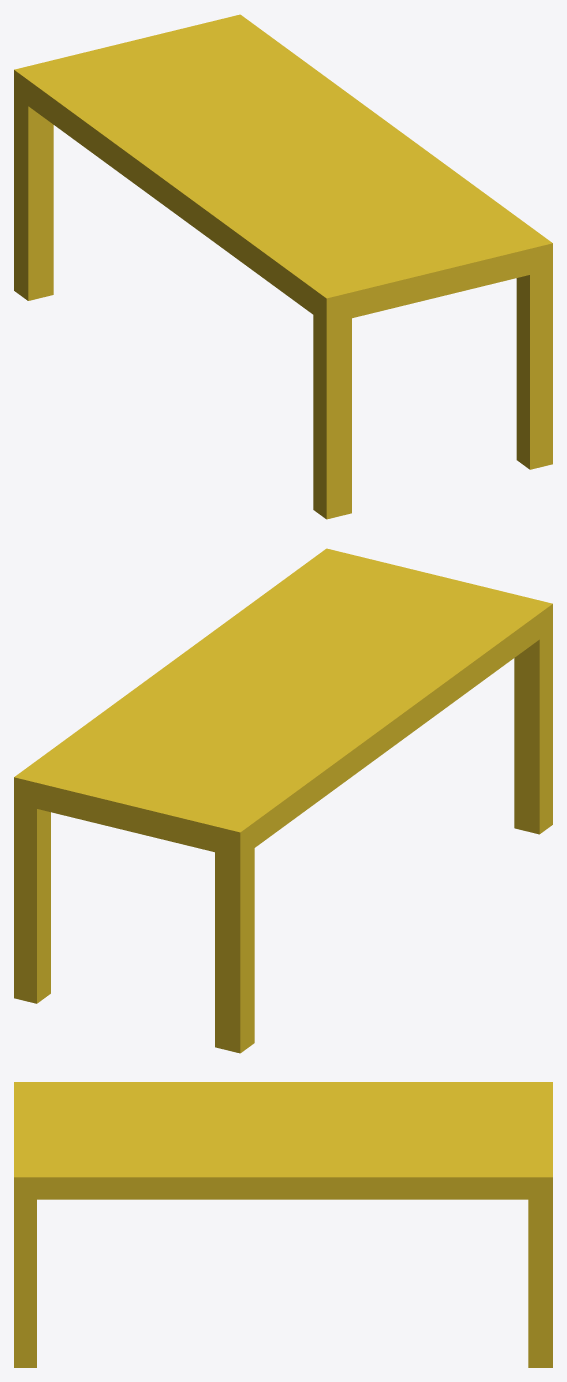
Rendered from plastic_table.glb.
3 renders of one model, top to bottom at view 1: azimuth 30°, elevation 25°; view 2: azimuth 150°, elevation 25°; view 3: azimuth 270°, elevation 25°, orthographic. The views are drawn at different scales.
Parts seen in each view (by area): view 1: PlasticTable.001; view 2: PlasticTable.001; view 3: PlasticTable.001.
Boxes of the visible parts, bbox=[...] form: PlasticTable.001: bbox=[14, 14, 552, 519]; PlasticTable.001: bbox=[14, 548, 552, 1053]; PlasticTable.001: bbox=[14, 1082, 552, 1367].
Size of what is drawn, in the model's own units: 1.82 by 1.7 by 4.36.
